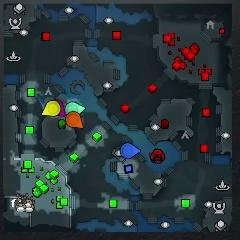p1: (121, 143, 141, 159)
p2: (65, 101, 86, 115)
p3: (55, 100, 65, 117)
p4: (42, 100, 60, 116)
p5: (65, 111, 83, 129)
